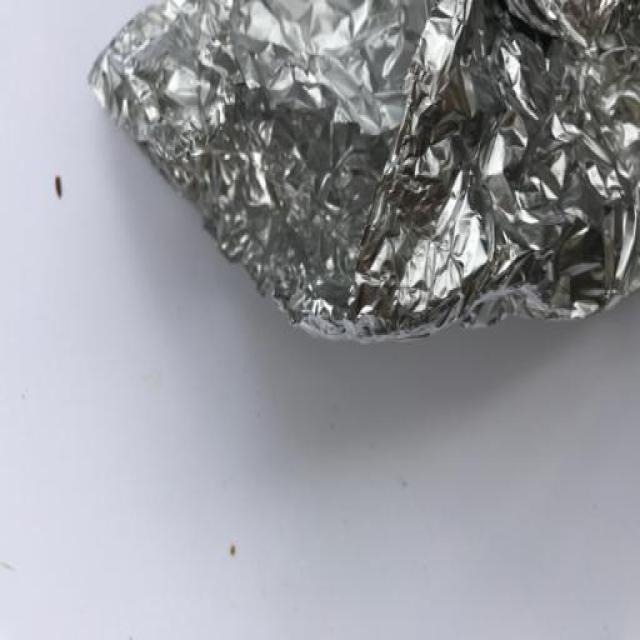metal: (86, 0, 638, 343)
